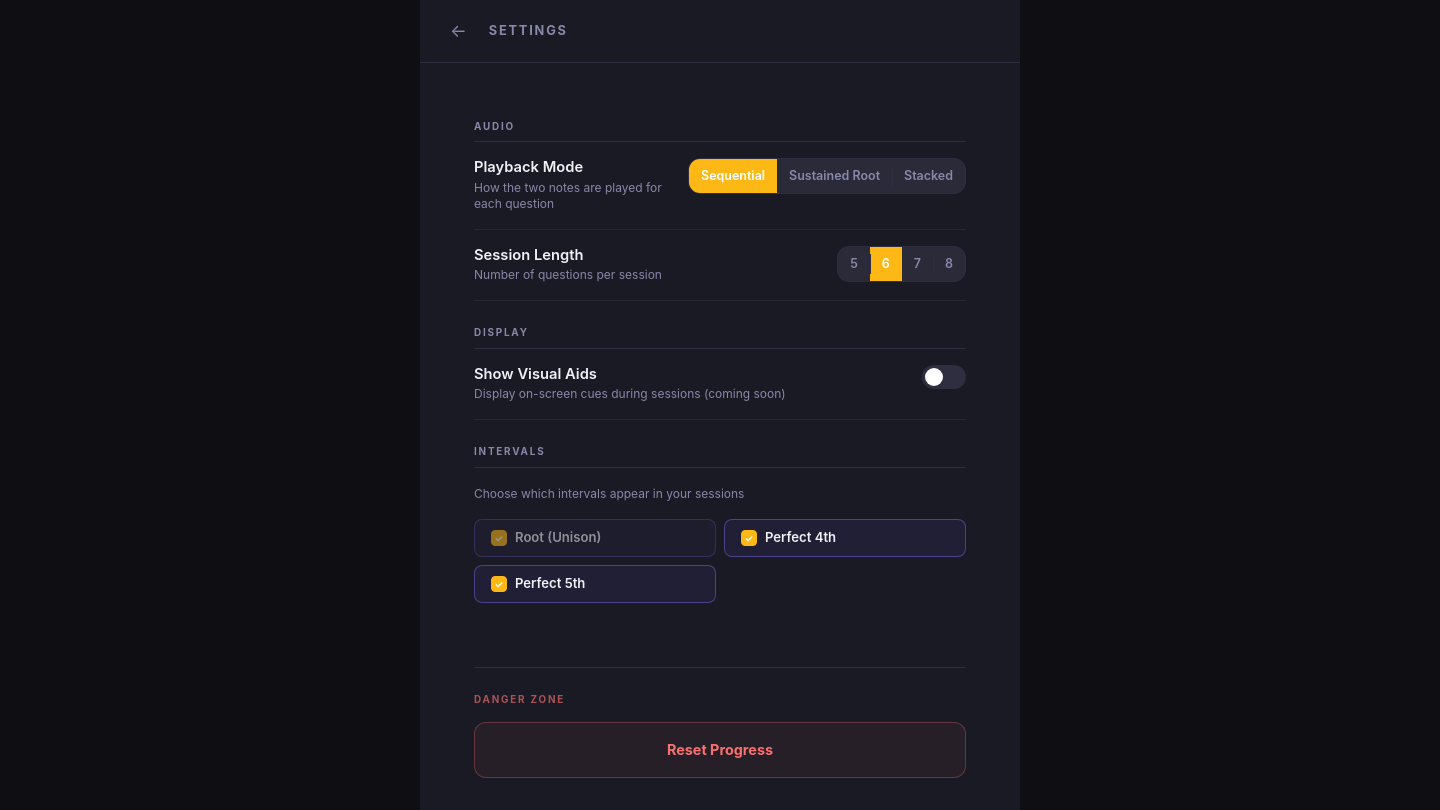
it: reset progress › clicking Reset Progress opens confirmation modal
Click the button with test id "reset-btn": (720, 750) [474,722,966,778]
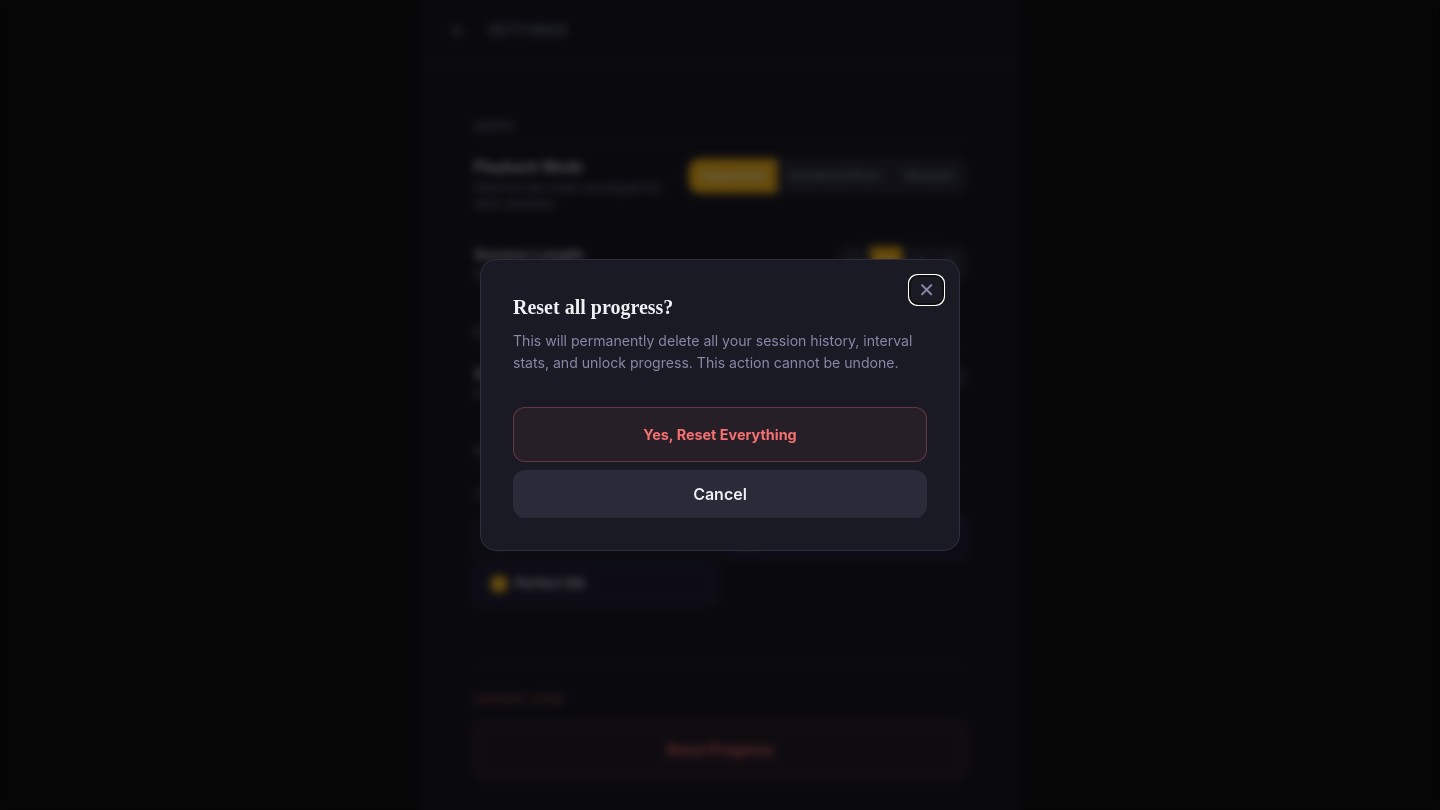
Now the text "Reset all progress?" is shown, box [513,296,673,318]
